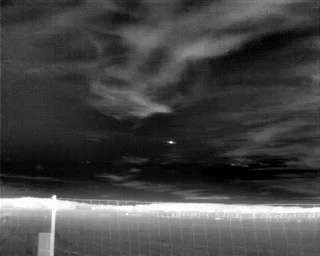AIRPLANE: (166, 138, 176, 146)
